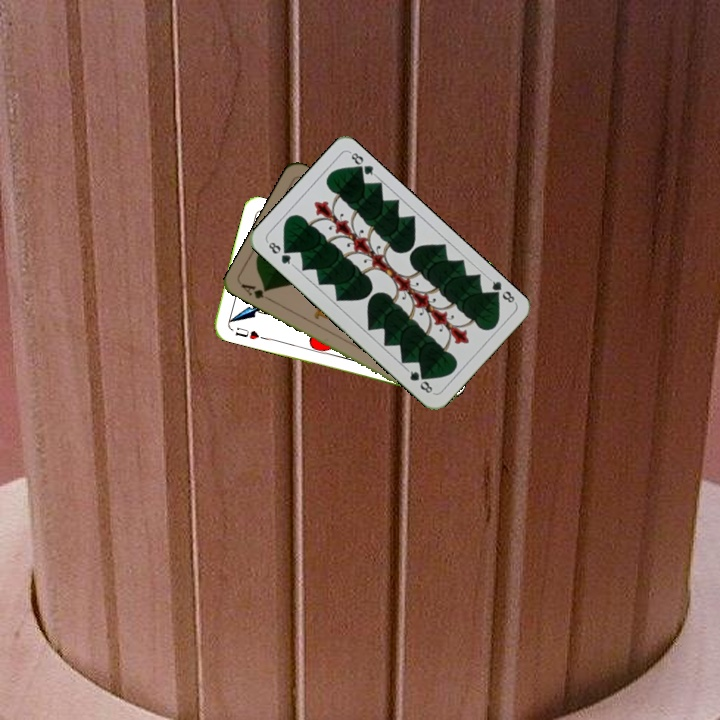G8: (485, 274, 518, 306), (263, 237, 296, 268)
GA: (237, 280, 275, 304)
HU: (231, 323, 266, 342)
